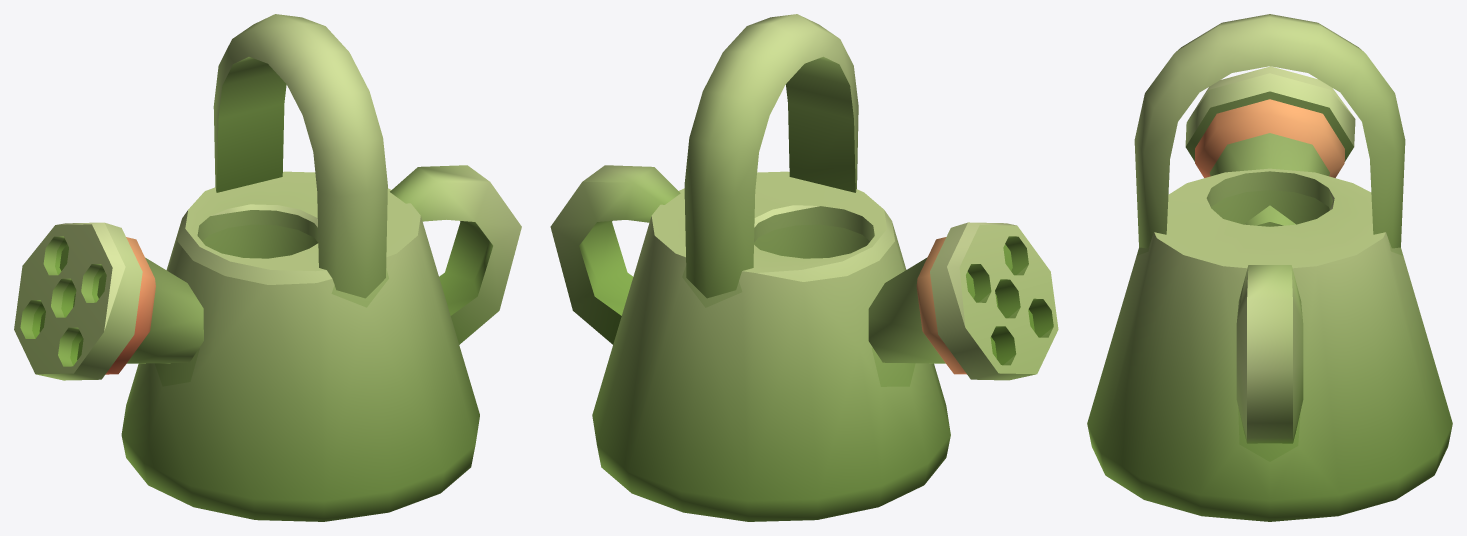
Rendered from wateringcan_003.glb.
3 views of the same model, side by side, from view 1: azimuth 30°, elevation 25°; view 2: azimuth 150°, elevation 25°; view 3: azimuth 270°, elevation 25° (orthographic).
Parts seen in each view (by area): view 1: wateringcan.003; view 2: wateringcan.003; view 3: wateringcan.003.
Part boxes in pixels (x1=…): wateringcan.003: x1=14, y1=14, x2=521, y2=521; wateringcan.003: x1=550, y1=14, x2=1058, y2=521; wateringcan.003: x1=1087, y1=14, x2=1452, y2=521.
Size of the model in its own units: 1.03 by 0.9026 by 0.6817.
Materials: 1 (1 with a texture image).
